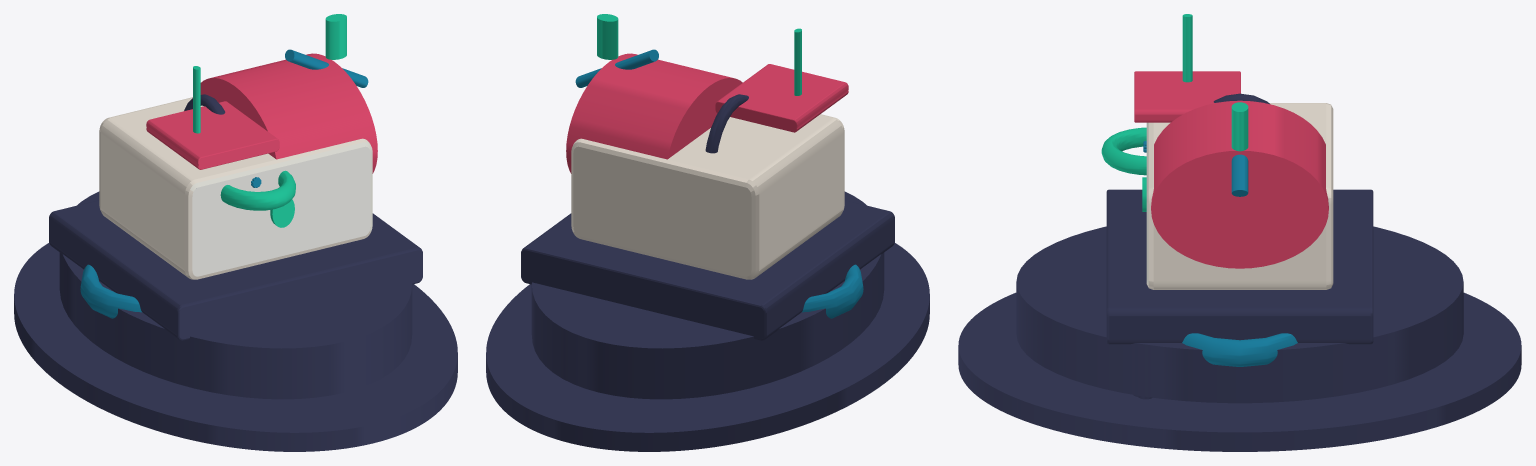
File: 0580_伟大的发明图鉴_最早的液晶显示器.glb
The picture shows the model from 3 angles, left to right: view 1: azimuth 30°, elevation 25°; view 2: azimuth 150°, elevation 25°; view 3: azimuth 270°, elevation 25°; orthographic projection. The views are drawn at different scales.
Parts seen in each view (by area): view 1: card_0580; view 2: card_0580; view 3: card_0580.
Boxes of the visible parts, x1,y1,x2,y2 form: card_0580: [14, 14, 457, 451]; card_0580: [486, 14, 929, 451]; card_0580: [958, 14, 1521, 451].
Size of the model in its own units: 1.18 by 1 by 1.61.
